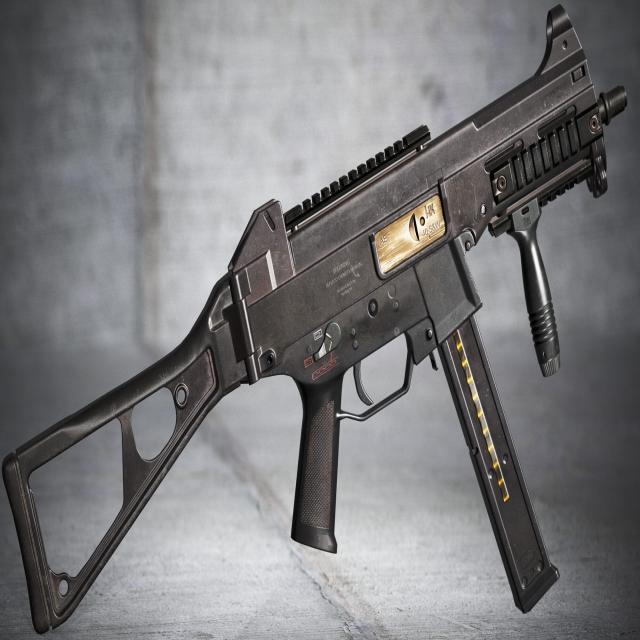Gun: (14, 21, 624, 565)
